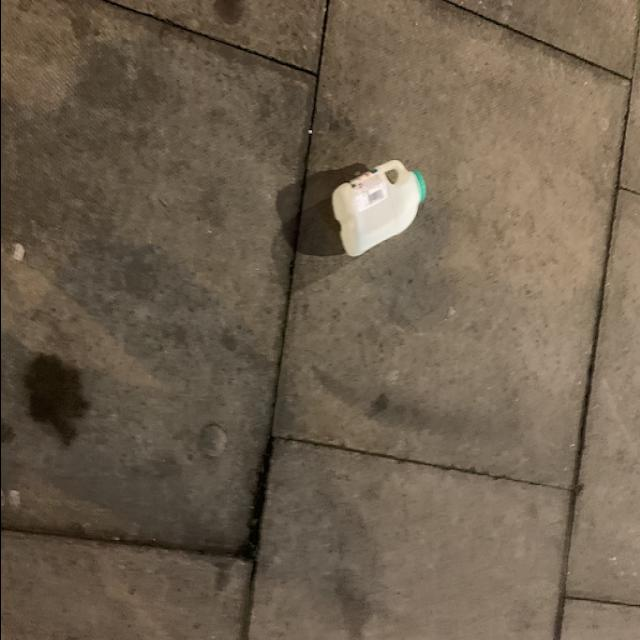HDPEM: (320, 159, 424, 260)
